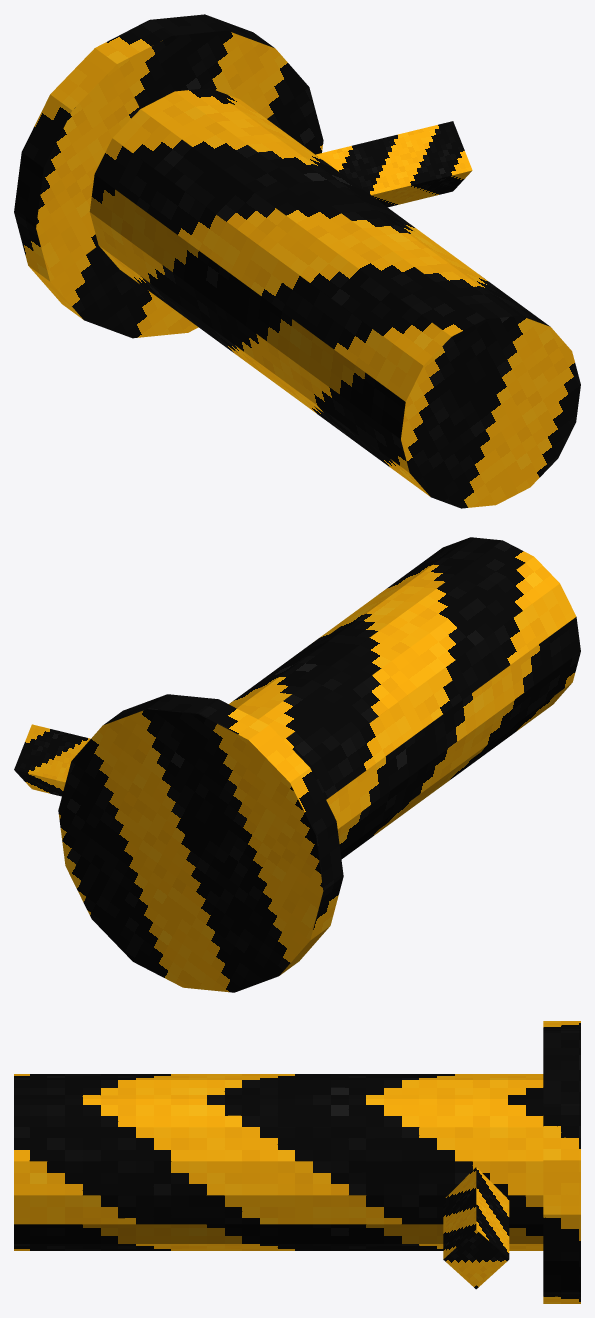
The model's file is ball_gun.glb.
3 views of the same model, one above another, from view 1: azimuth 30°, elevation 25°; view 2: azimuth 150°, elevation 25°; view 3: azimuth 270°, elevation 25° (orthographic). The views are drawn at different scales.
Visible parts, largest first — view 1: Cylinder, Cube; view 2: Cylinder, Cube; view 3: Cylinder, Cube.
Boxes of the visible parts, x1,y1,x2,y2 form: Cylinder: [14, 14, 580, 508]; Cube: [316, 121, 472, 207]; Cylinder: [58, 537, 580, 992]; Cube: [14, 724, 90, 796]; Cylinder: [14, 1021, 580, 1303]; Cube: [443, 1167, 509, 1289].
Size of the model in its own units: 1.33 by 1.01 by 2.03.
1 material, 1 textured.
